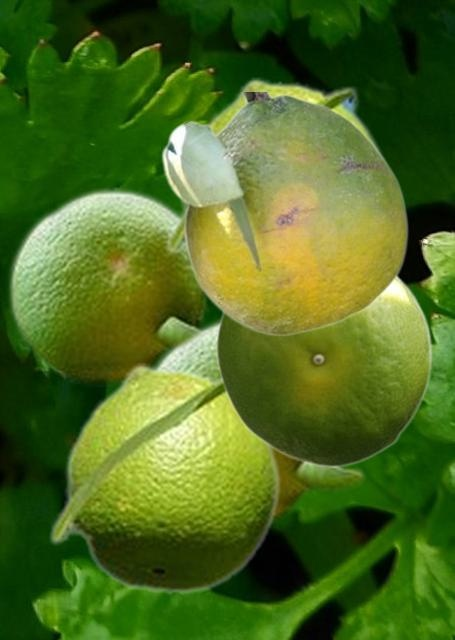dalandan: (160, 92, 408, 335), (47, 363, 281, 595), (151, 317, 367, 524), (163, 77, 392, 260), (215, 276, 431, 467), (6, 185, 212, 385)
